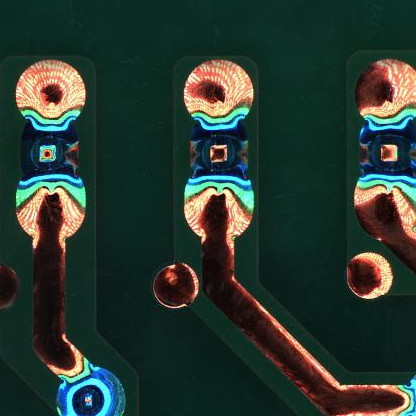spot: (19, 111, 81, 186), (188, 115, 251, 184), (358, 115, 416, 185), (56, 365, 129, 416)
